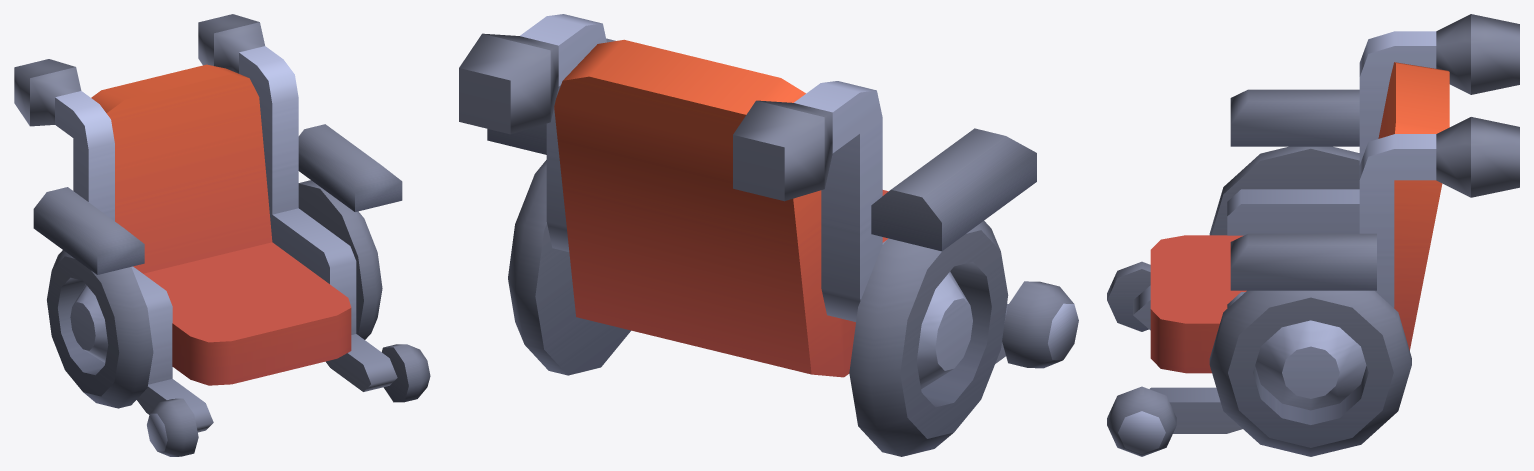
File: wheelchair-deluxe.fbx
The picture shows the model from 3 angles, left to right: view 1: azimuth 30°, elevation 25°; view 2: azimuth 150°, elevation 25°; view 3: azimuth 270°, elevation 25°; orthographic projection. The views are drawn at different scales.
Visible parts, largest first — view 1: wheelchair-deluxe; view 2: wheelchair-deluxe; view 3: wheelchair-deluxe.
Boxes of the visible parts, x1,y1,x2,y2 form: wheelchair-deluxe: (14, 14, 430, 456); wheelchair-deluxe: (459, 14, 1078, 456); wheelchair-deluxe: (1107, 14, 1519, 456).
Size of the model in its own units: 57.91 by 49.5 by 59.24.
